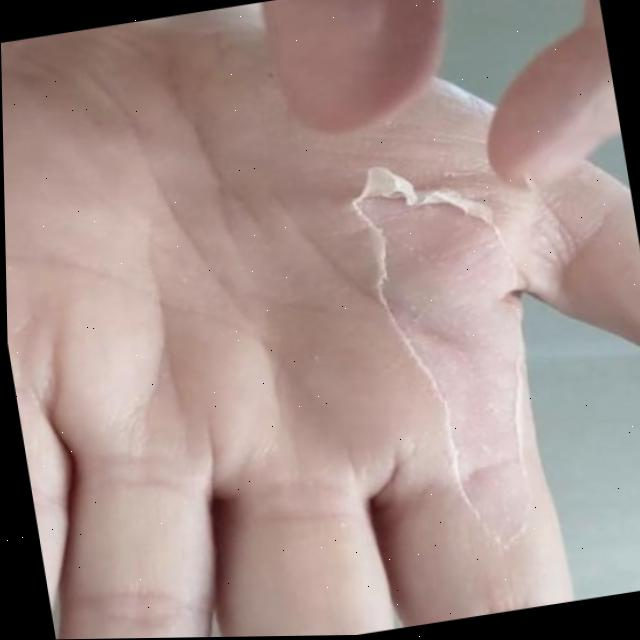Eczema: (342, 126, 561, 502)
